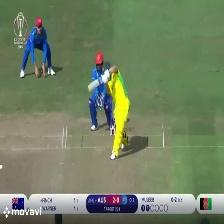batsman: (88, 61, 133, 161)
